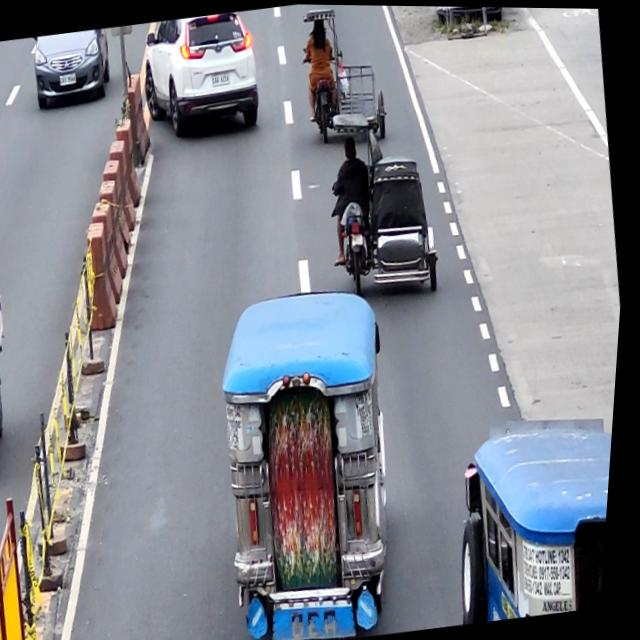Car: (134, 8, 272, 147)
Jeep: (202, 282, 428, 640), (446, 403, 619, 623)
License-Plate: (211, 72, 232, 86)
Tricycle: (319, 100, 455, 310), (295, 4, 398, 147)
